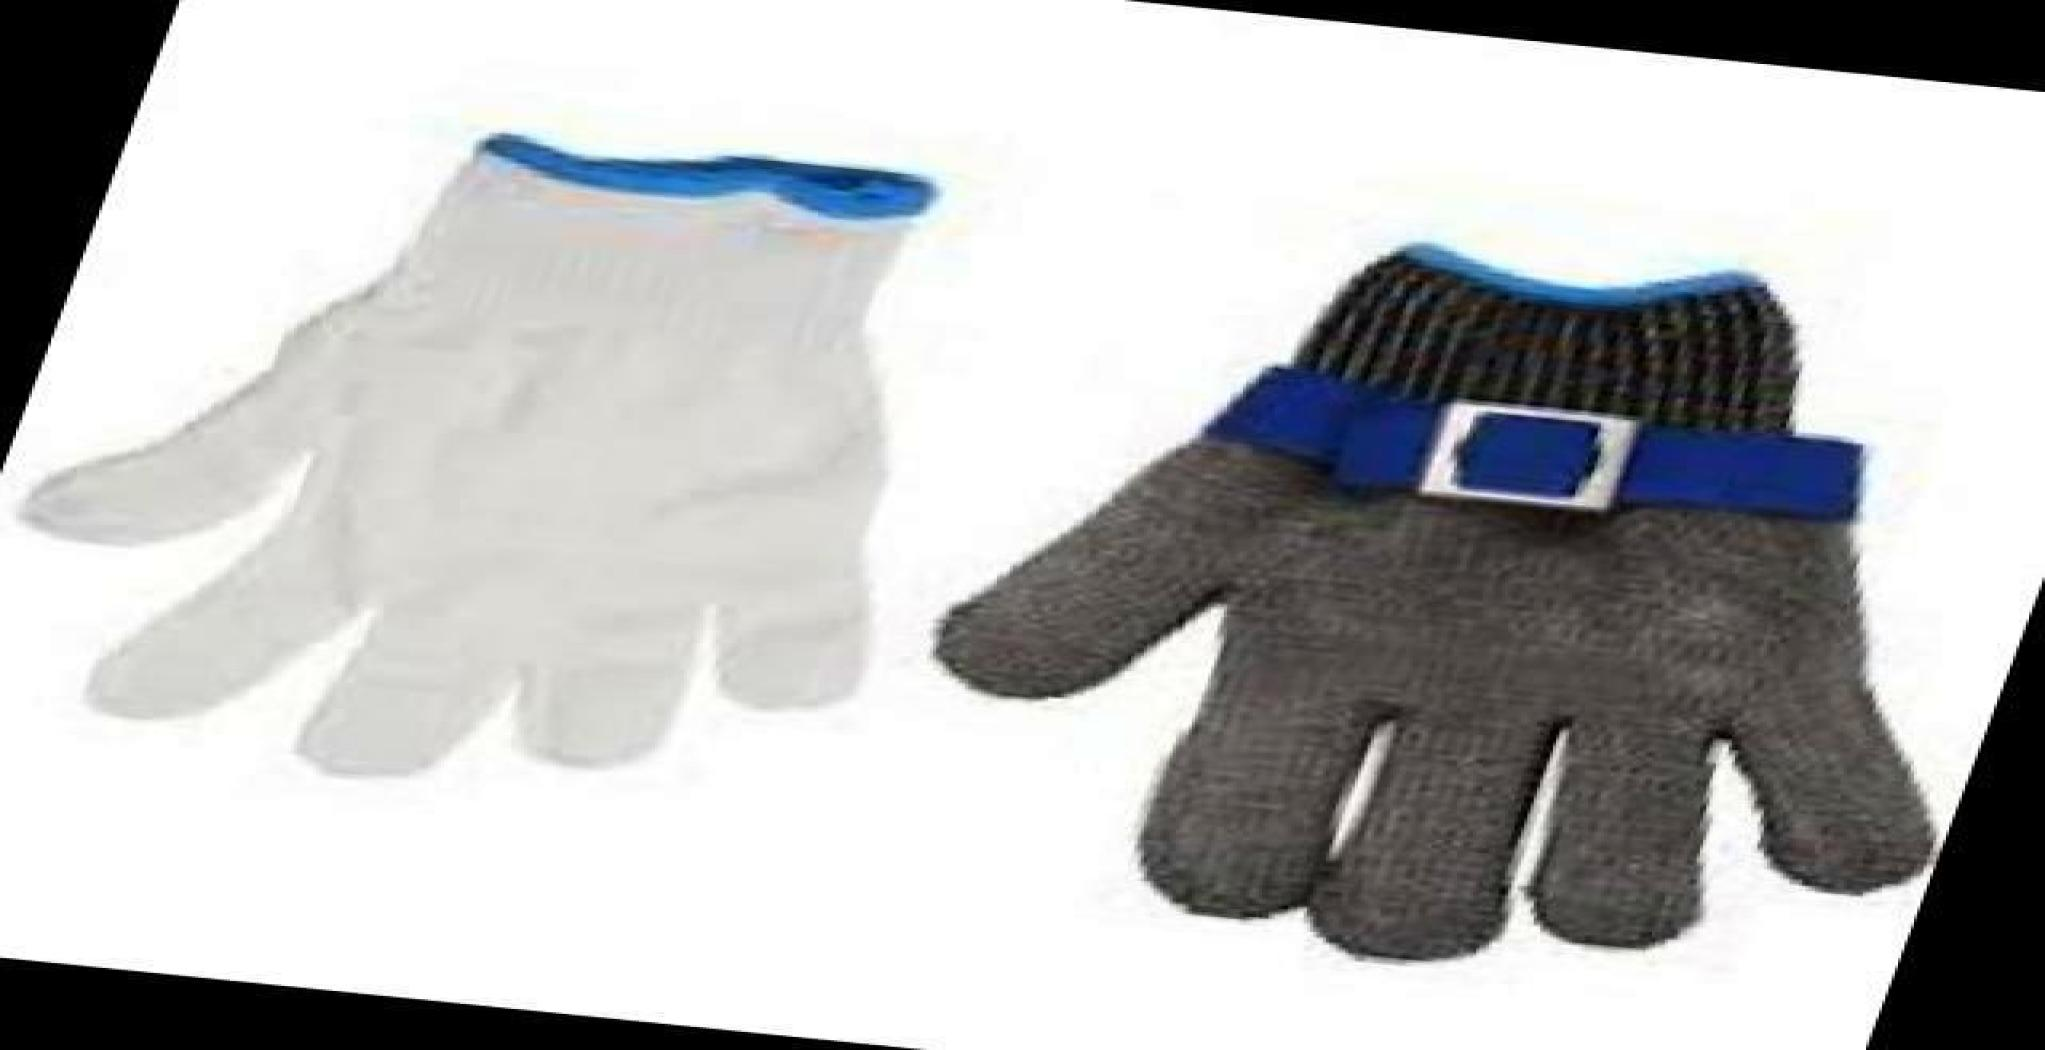gloved: (1286, 248, 1831, 925), (398, 139, 889, 753)
